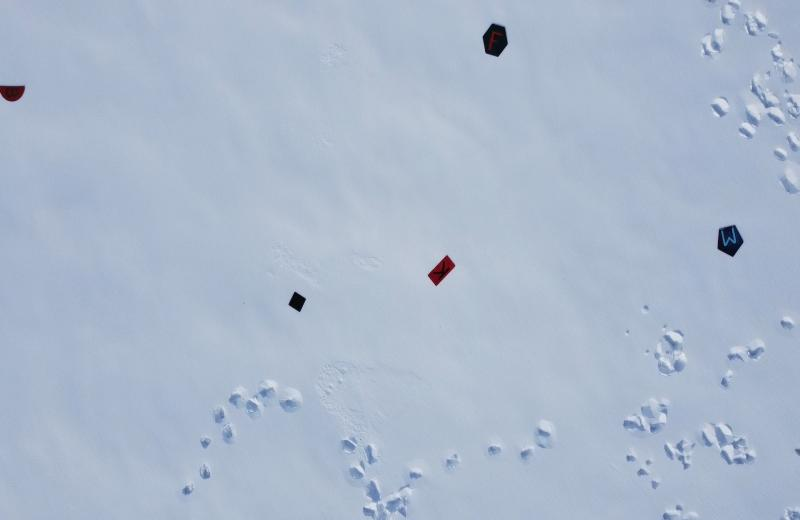Hexagon: (484, 23, 510, 57)
Rectangle: (425, 254, 460, 290)
Semi Circle: (714, 224, 744, 258), (0, 84, 27, 102)
Square: (288, 291, 308, 313)
